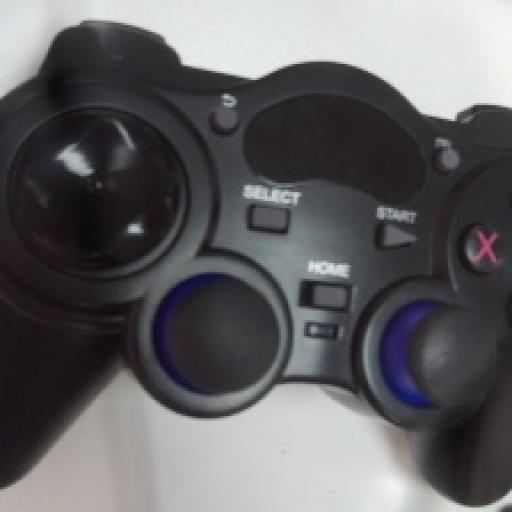game pad: (0, 23, 510, 503)
